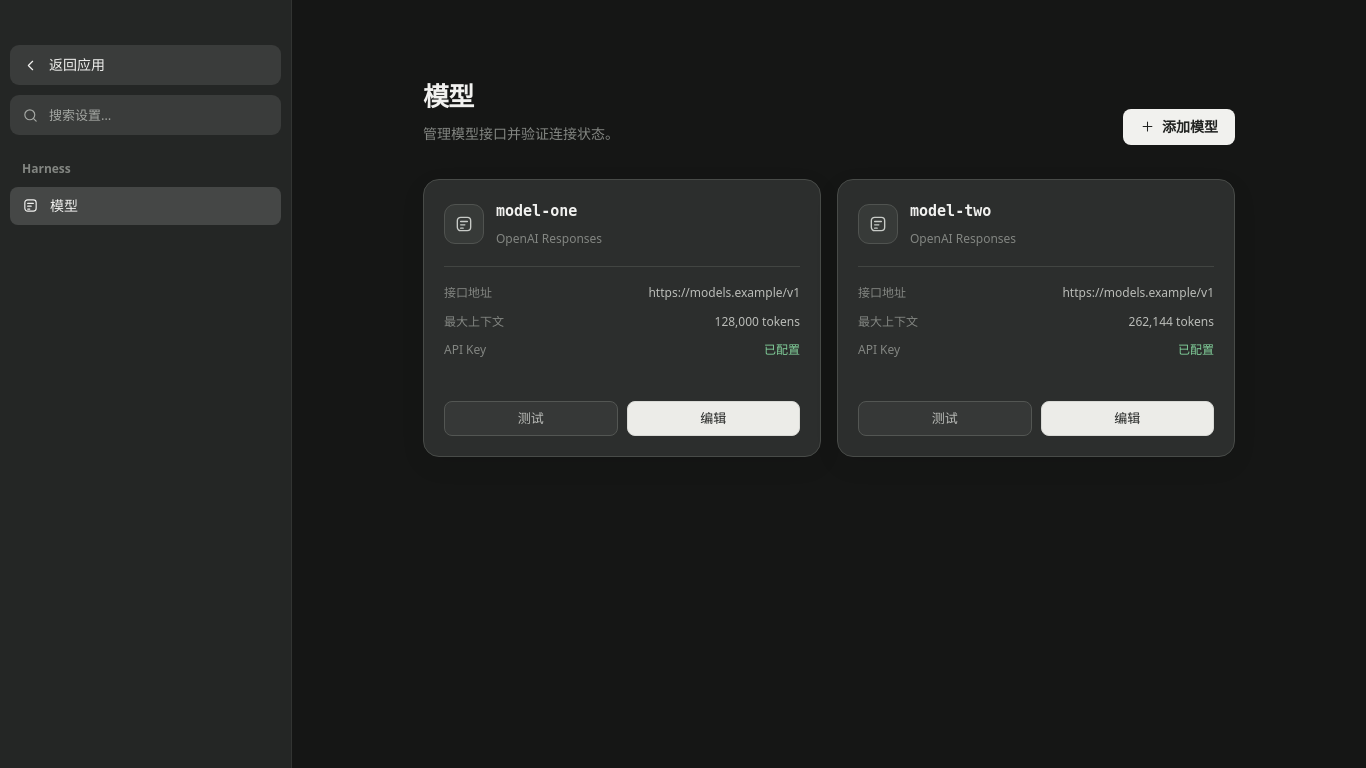
Test: SimpleModelSettings › opens a blank independent form when adding a model
The width and height of the screenshot is (1366, 768).
expect the heading "model-one" is shown: met, box [496, 202, 577, 220]
Click the button "添加模型" at coordinates (1179, 127), box [1123, 109, 1235, 145]
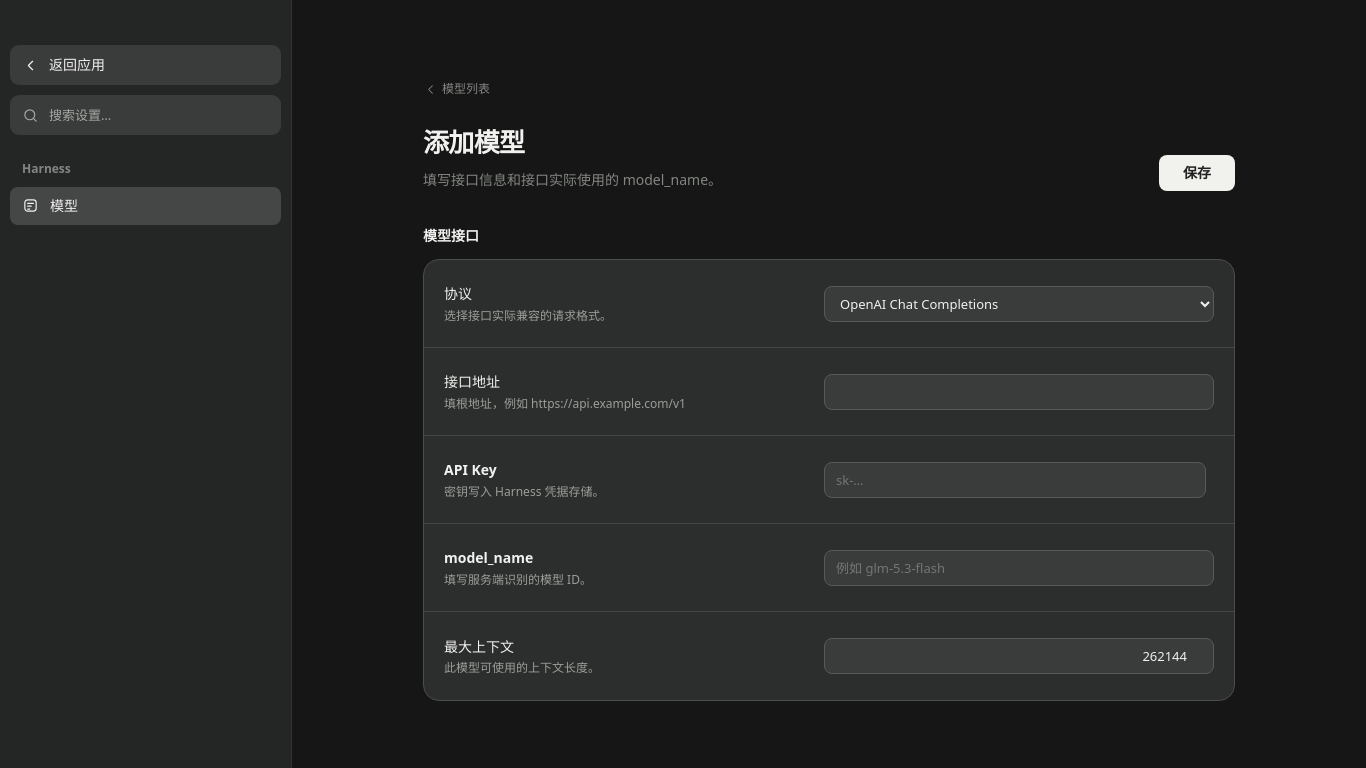
expect the field labelled "接口地址 填根地址，例如 https://api.example.com/v1" is empty: met, box [824, 374, 1214, 410]
expect the field labelled "model_name 填写服务端识别的模型 ID。" is empty: met, box [824, 550, 1214, 586]
expect the text "密钥写入 Harness 凭据存储。" is shown: met, box [444, 483, 604, 500]
